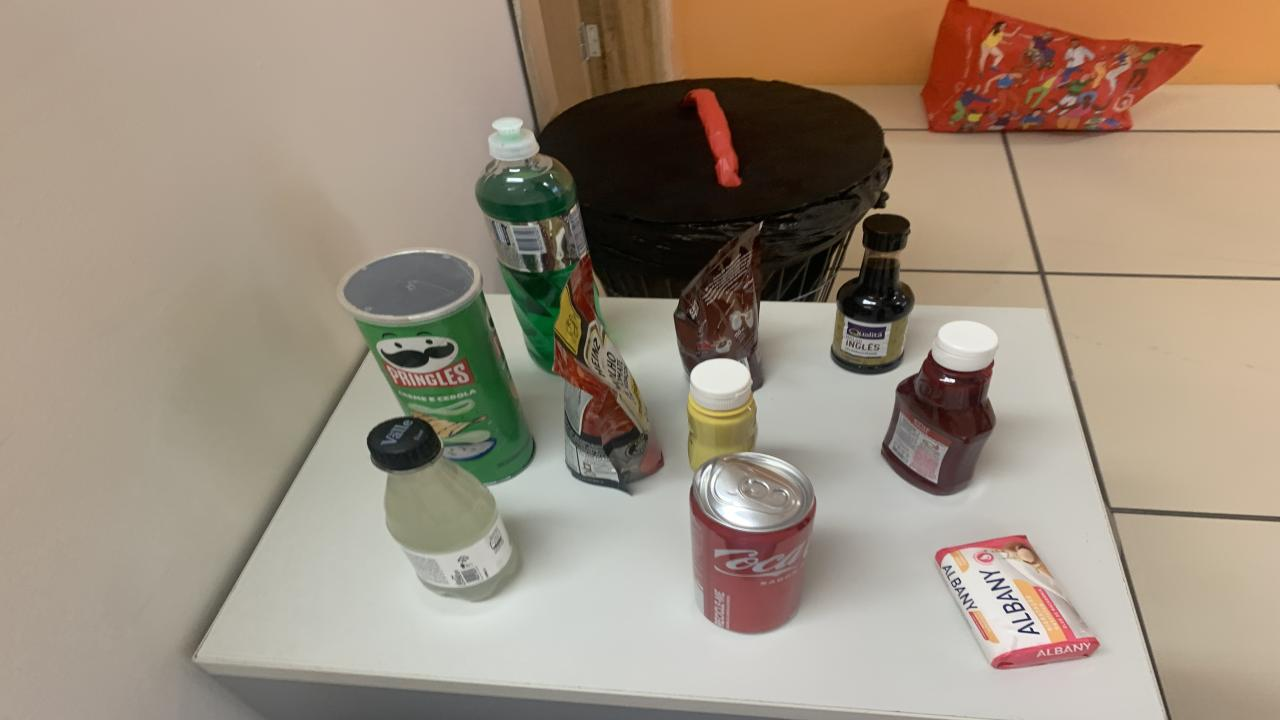Coffee-Pantry_Items: (675, 223, 762, 390)
Coke-Drinks: (690, 452, 815, 634)
Detergent-Cleanup_Items: (475, 118, 588, 371)
English_Sauce-Pantry_Items: (830, 214, 915, 373)
Ketchup-Pantry_Items: (882, 321, 998, 495)
Mustard-Pantry_Items: (688, 358, 758, 471)
Pringles-Snacks: (340, 249, 532, 484)
Soap-Cleanup_Items: (935, 536, 1100, 669)
Soda-Drinks: (368, 416, 518, 600)
Tomato_Sauce-Pantry_Items: (552, 255, 662, 491)
